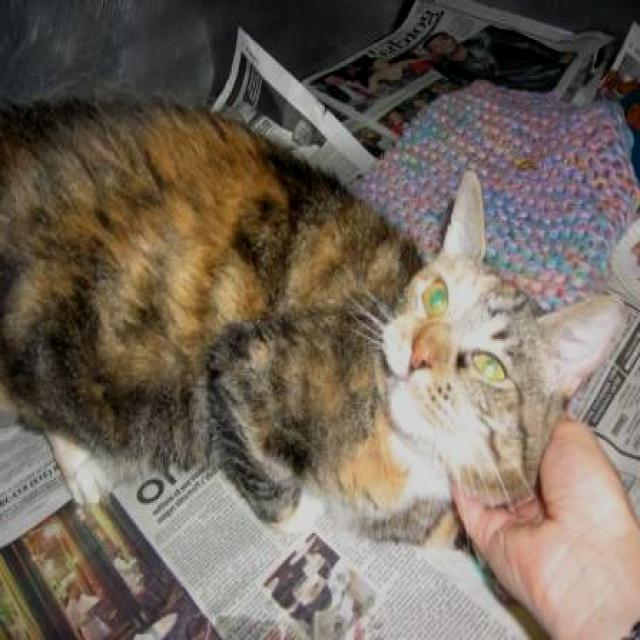Kucing: (19, 68, 592, 503)
